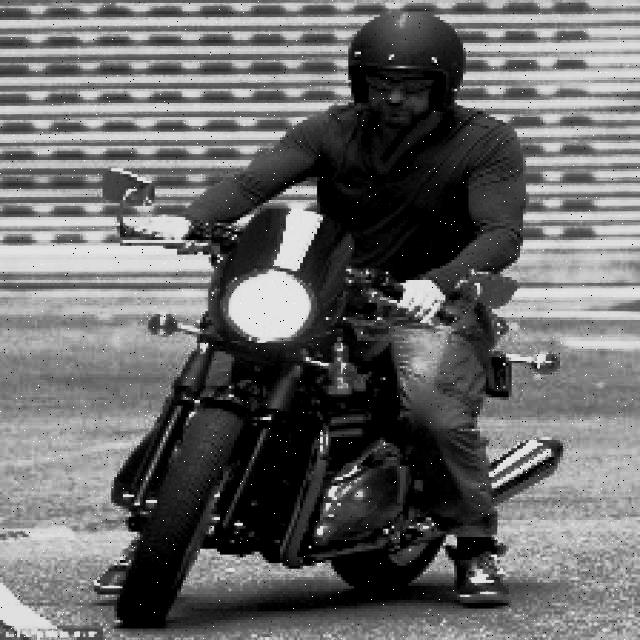Bike: (54, 191, 424, 633)
